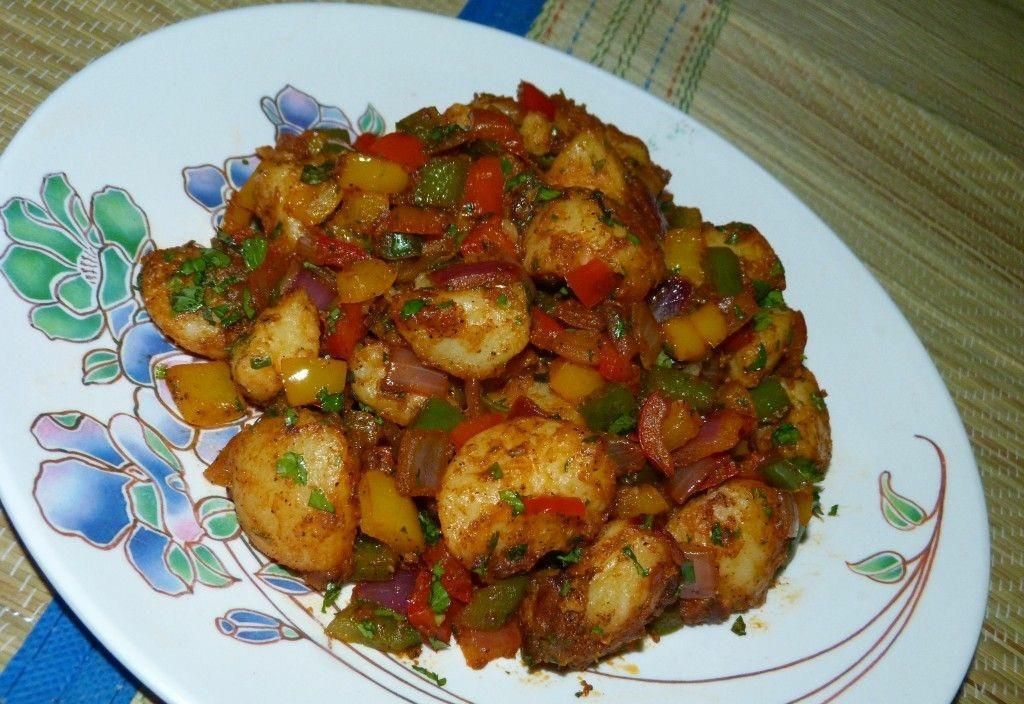AlooMasala: (141, 78, 831, 668)
